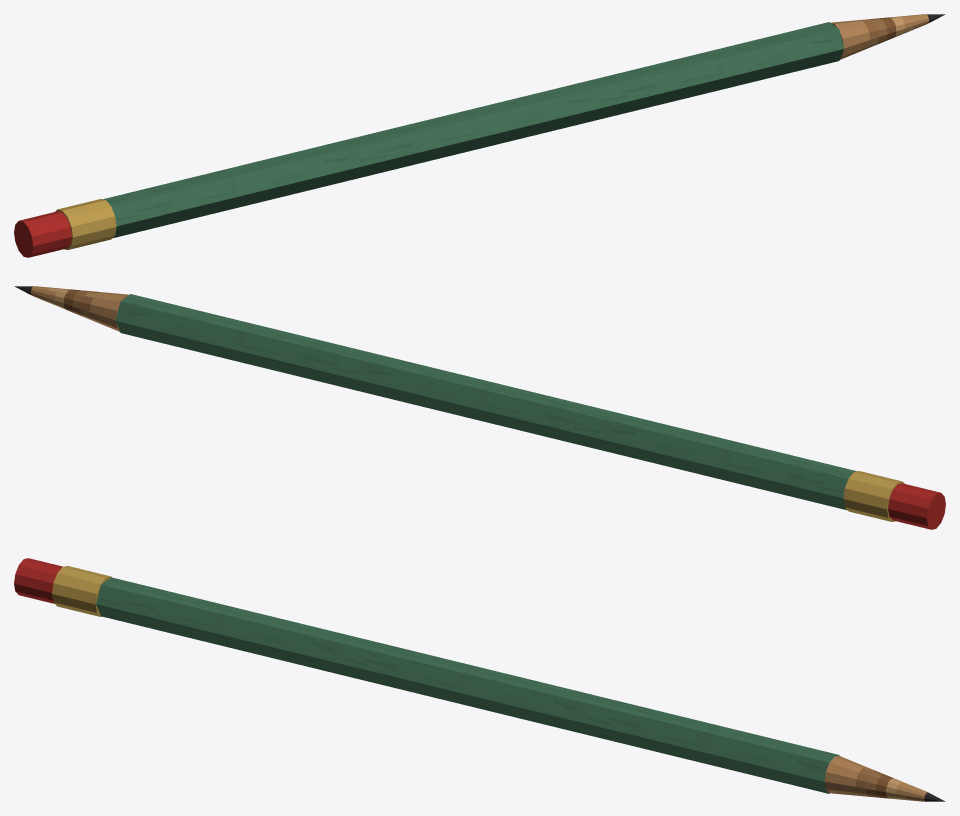
The model's file is pencil.glb.
The picture shows the model from 3 angles, top to bottom: view 1: azimuth 30°, elevation 25°; view 2: azimuth 150°, elevation 25°; view 3: azimuth 330°, elevation 25°; orthographic projection.
Visible parts, largest first — view 1: p; view 2: p; view 3: p.
Boxes of the visible parts, x1,y1,x2,y2 form: p: [14, 14, 945, 257]; p: [14, 286, 945, 529]; p: [14, 558, 945, 801].
Bounding box in the file's own units: 0.19 × 0.00749 × 0.00749.
Materials: 5 (5 with a texture image).
